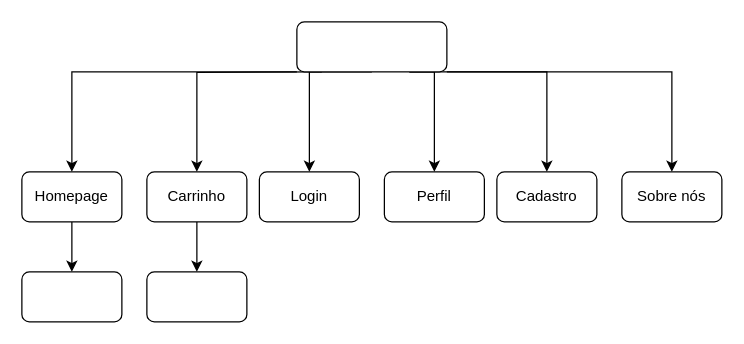
This 744x344 diagram has some shape labels left out. Here are the shapes that lost their labels. From the top down, the box of each, then its label:
(296, 21, 447, 72): Navigation Bar
(21, 271, 122, 322): Produto
(146, 271, 247, 322): Finalizar Compra
